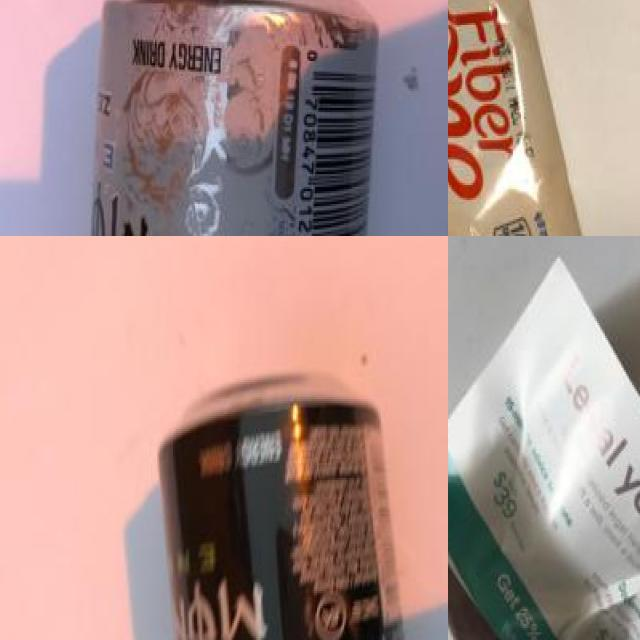paper: (448, 253, 640, 640)
plastic: (78, 0, 403, 236), (158, 369, 441, 640)
trash: (448, 0, 640, 236)
